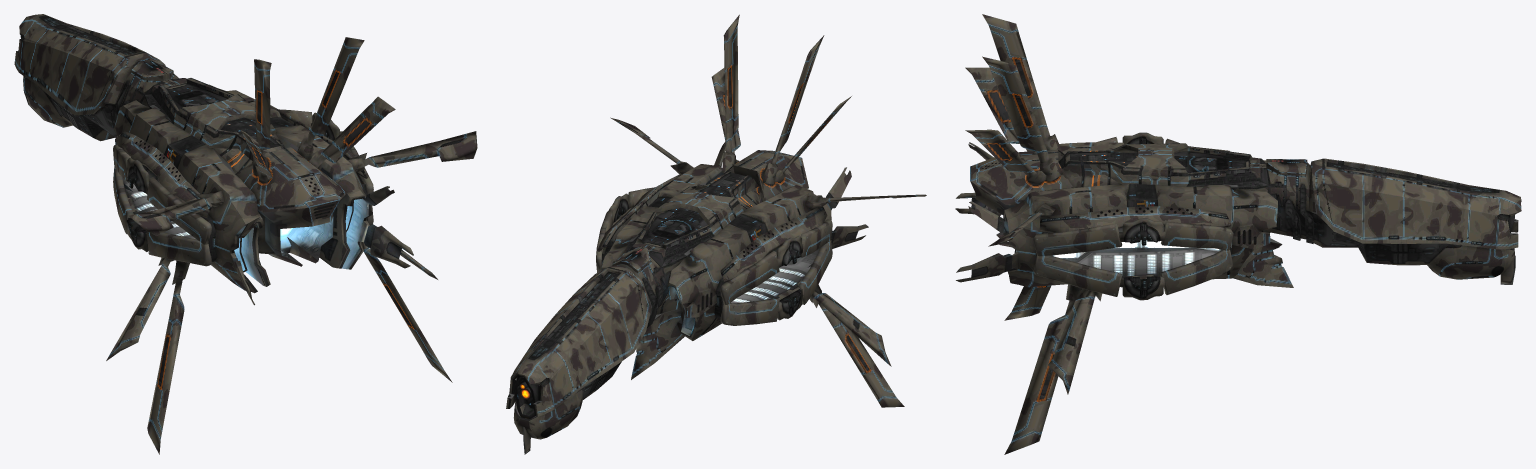
Rendered from dreadnought.glb.
3 renders of one model, left to right at view 1: azimuth 30°, elevation 25°; view 2: azimuth 150°, elevation 25°; view 3: azimuth 270°, elevation 25°, orthographic. The views are drawn at different scales.
Visible parts, largest first — view 1: Object_2; view 2: Object_2; view 3: Object_2.
Boxes of the visible parts, bbox=[...] form: Object_2: bbox=[14, 14, 477, 454]; Object_2: bbox=[506, 14, 926, 454]; Object_2: bbox=[955, 14, 1521, 454].
Size of the model in its own units: 254 by 263 by 382.
1 material, 1 textured.
